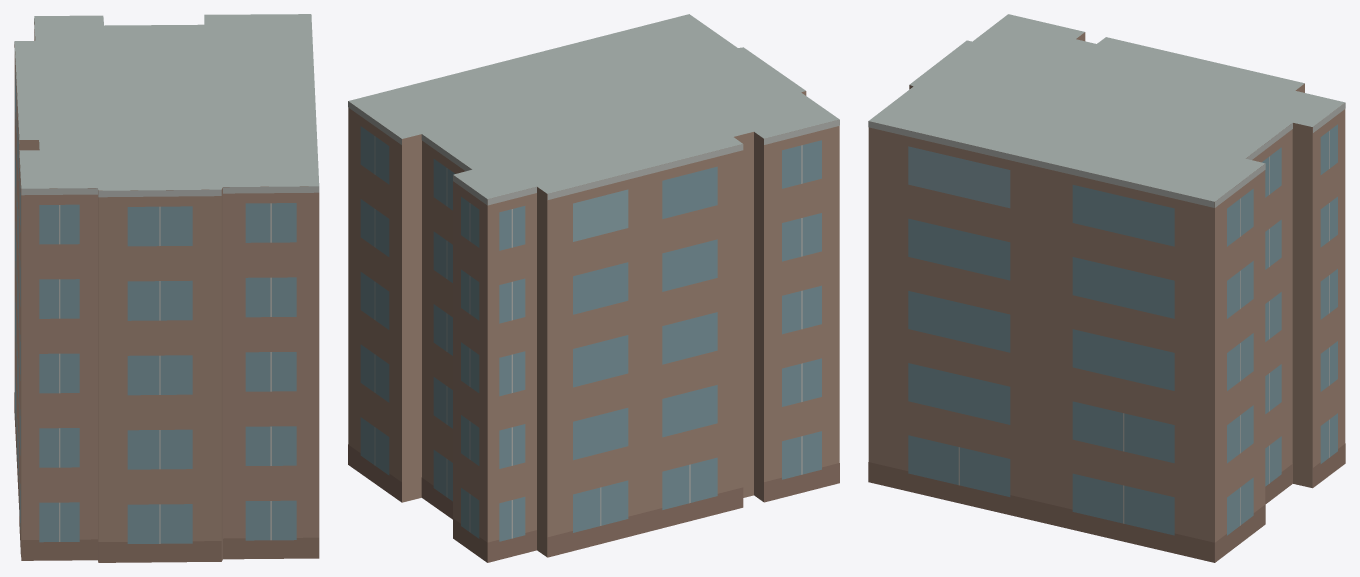
File: survey-upis-33038234.glb
The picture shows the model from 3 angles, left to right: view 1: azimuth 30°, elevation 25°; view 2: azimuth 150°, elevation 25°; view 3: azimuth 270°, elevation 25°; orthographic projection. The views are drawn at different scales.
Parts seen in each view (by area): view 1: survey-upis-33038234.tmp; view 2: survey-upis-33038234.tmp; view 3: survey-upis-33038234.tmp.
Part boxes in pixels (box(x1,y1,x2,y2)): survey-upis-33038234.tmp: box(14, 14, 319, 562); survey-upis-33038234.tmp: box(348, 14, 839, 562); survey-upis-33038234.tmp: box(868, 14, 1345, 562).
Size of the model in its own units: 15.62 by 14 by 16.77.
